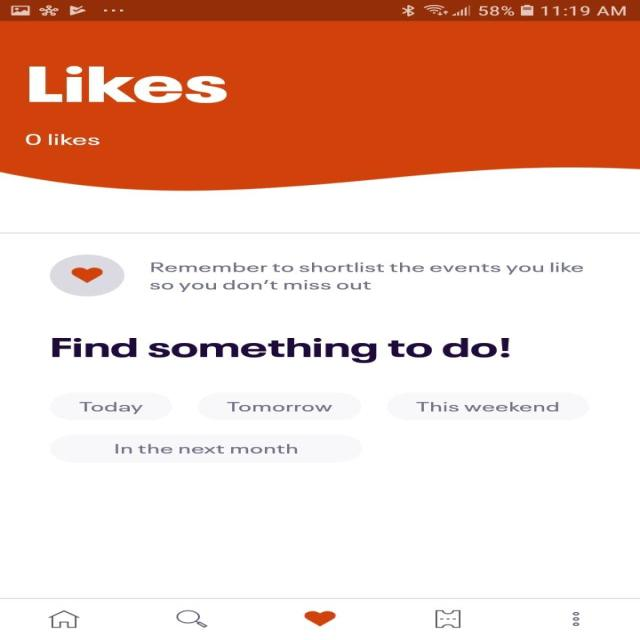Icon: (50, 254, 124, 296), (175, 609, 208, 628), (48, 609, 80, 628), (303, 610, 336, 626), (434, 609, 461, 628), (572, 611, 580, 626)
Text: (149, 261, 583, 292), (52, 337, 510, 363), (29, 66, 228, 103), (24, 133, 100, 146)
TextButton: (49, 433, 363, 462), (386, 392, 590, 421), (197, 392, 362, 421), (50, 392, 174, 421)
